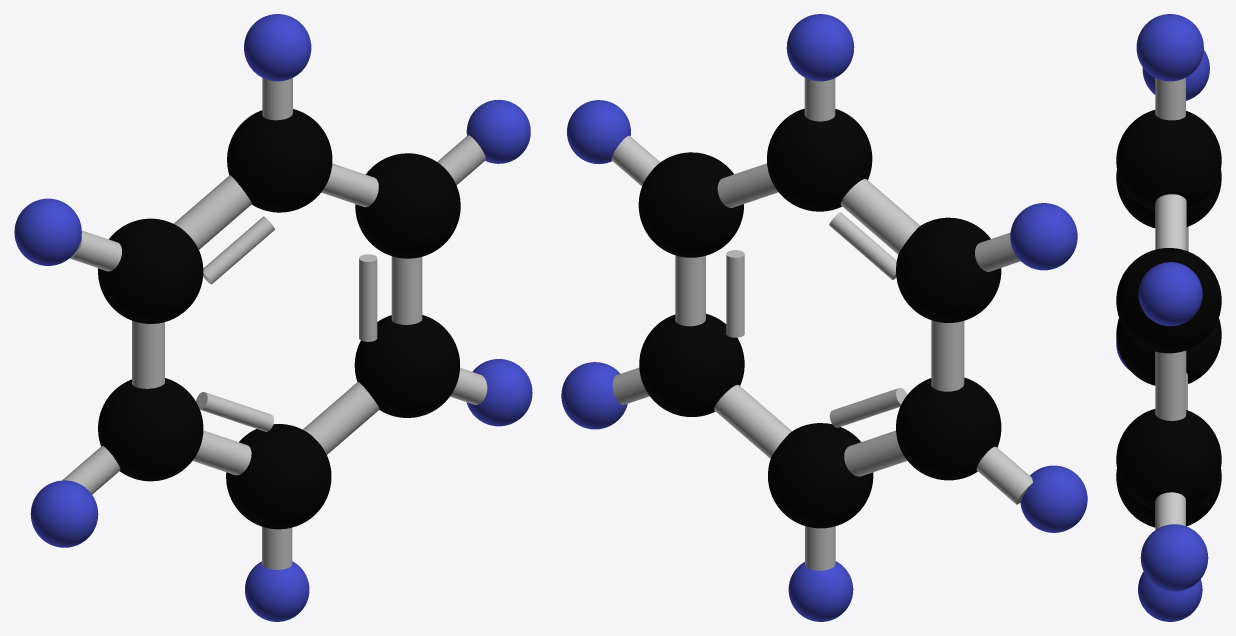
File: chemistry_benzene.glb
The picture shows the model from 3 angles, left to right: view 1: azimuth 30°, elevation 25°; view 2: azimuth 150°, elevation 25°; view 3: azimuth 270°, elevation 25°; orthographic projection.
Visible parts, largest first — view 1: Object_45, Object_39, Object_9, Object_35, Object_21, Object_51, Object_33, Object_43, Object_49, Object_19, Object_25, Object_55 (+15 smaller); view 2: Object_39, Object_9, Object_35, Object_45, Object_21, Object_51, Object_33, Object_49, Object_43, Object_25, Object_19, Object_55 (+15 smaller); view 3: Object_45, Object_21, Object_9, Object_49, Object_25, Object_19, Object_39, Object_27, Object_55, Object_11, Object_51, Object_35 (+3 smaller).
Boxes of the visible parts, <box> form: Object_45: <box>227,109,332,212</box>; Object_39: <box>98,378,203,481</box>; Object_9: <box>355,153,460,258</box>; Object_35: <box>98,218,203,323</box>; Object_21: <box>354,315,459,417</box>; Object_51: <box>226,424,331,529</box>; Object_33: <box>14,198,81,265</box>; Object_43: <box>30,480,98,547</box>; Object_49: <box>244,14,311,81</box>; Object_19: <box>466,99,530,163</box>; Object_25: <box>466,359,532,426</box>; Object_55: <box>245,561,309,621</box>; Object_39: <box>896,377,1001,480</box>; Object_9: <box>638,152,743,257</box>; Object_35: <box>896,217,1001,322</box>; Object_45: <box>767,108,872,211</box>; Object_21: <box>639,313,744,416</box>; Object_51: <box>768,423,873,528</box>; Object_33: <box>1010,203,1077,270</box>; Object_49: <box>786,14,854,81</box>; Object_43: <box>1020,465,1087,532</box>; Object_25: <box>561,362,627,429</box>; Object_19: <box>567,100,630,163</box>; Object_55: <box>788,561,853,621</box>; Object_45: <box>1116,110,1221,211</box>; Object_21: <box>1116,409,1221,510</box>; Object_9: <box>1116,248,1221,353</box>; Object_49: <box>1136,14,1203,81</box>; Object_25: <box>1140,524,1208,591</box>; Object_19: <box>1138,262,1202,326</box>; Object_39: <box>1116,318,1221,385</box>; Object_27: <box>1155,350,1186,420</box>; Object_55: <box>1138,572,1202,621</box>; Object_11: <box>1155,194,1186,250</box>; Object_51: <box>1116,469,1221,527</box>; Object_35: <box>1116,170,1221,228</box>.
Bounding box in the file's own units: 0.4088 × 0.4625 × 0.0735.
4 materials, 4 textured.
